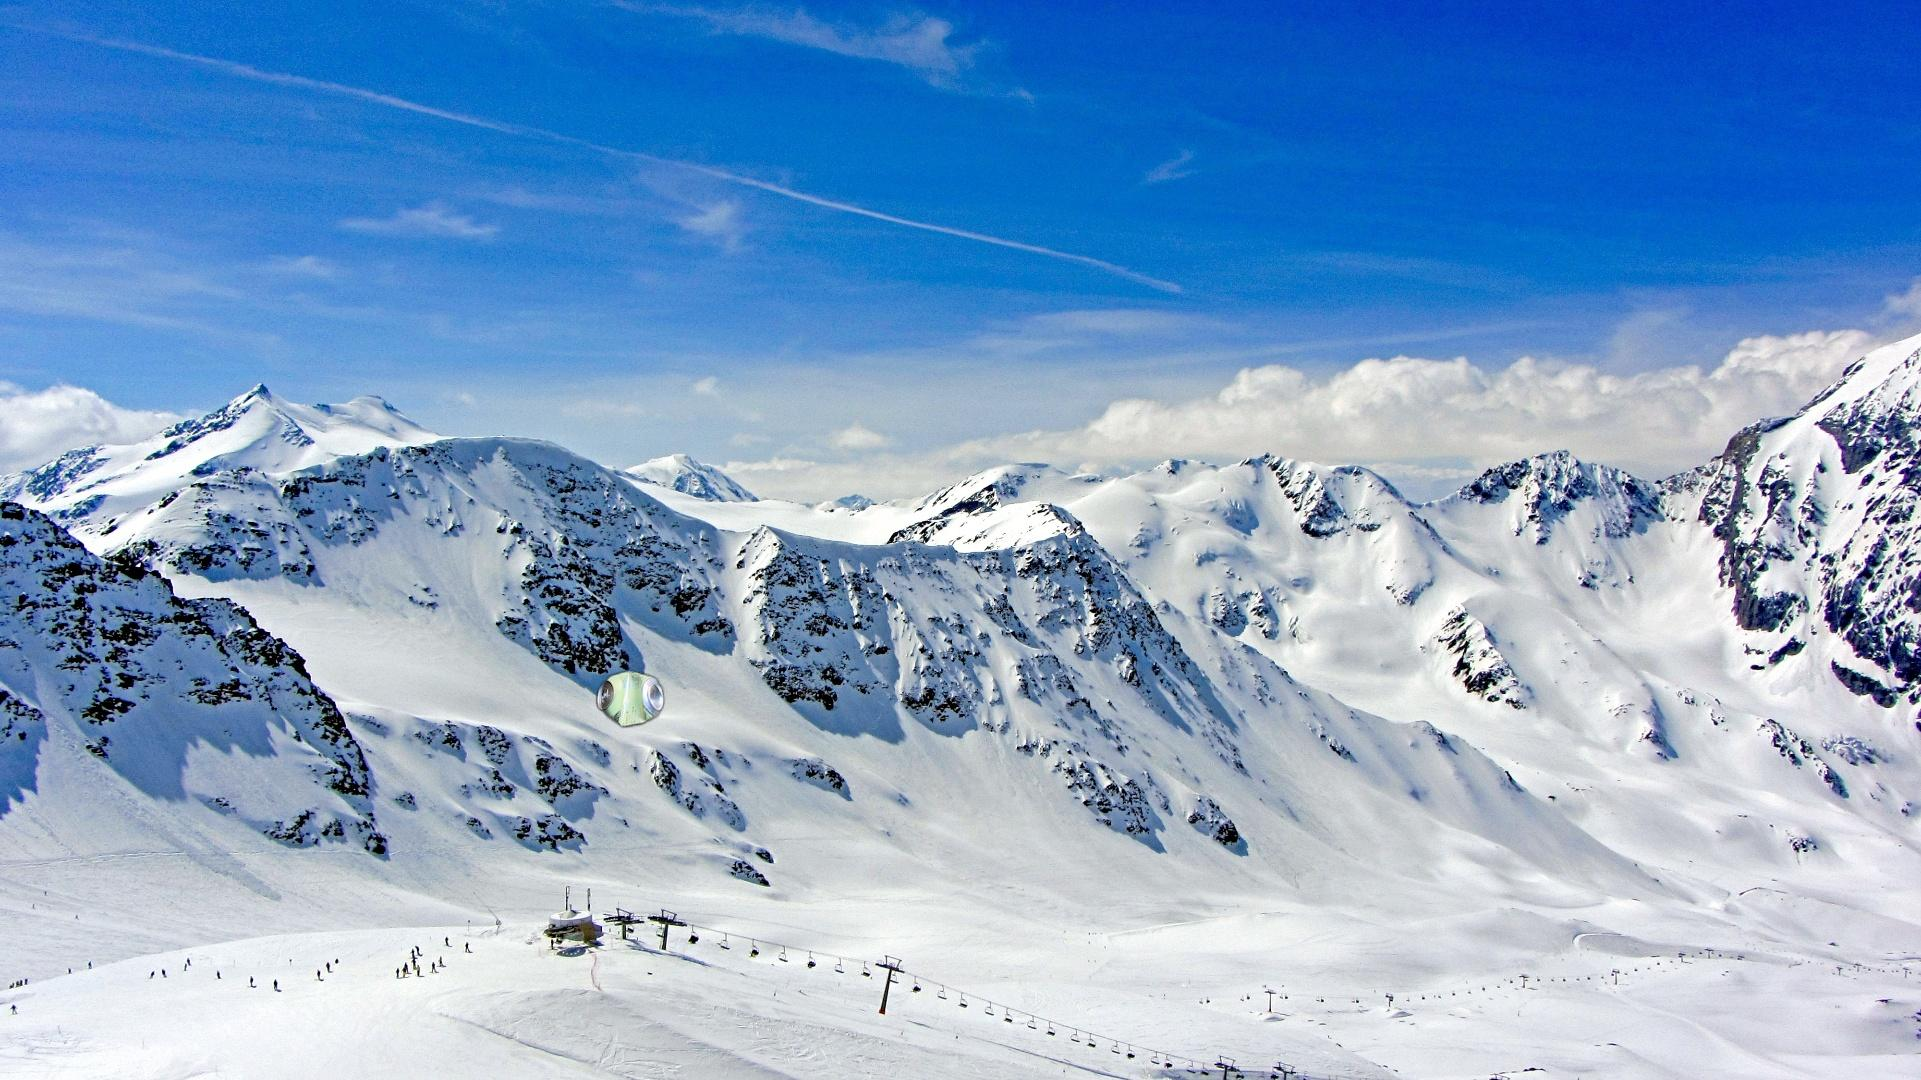metal-cans: (310, 665, 669, 1022)
